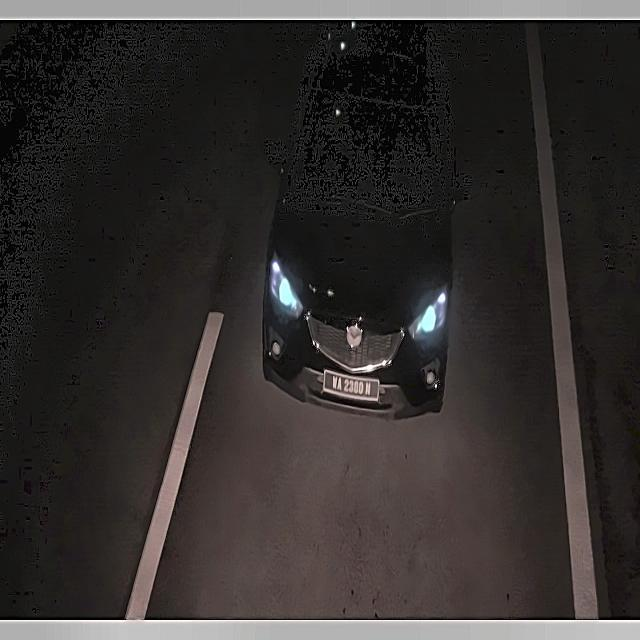car: (322, 360, 387, 411)
